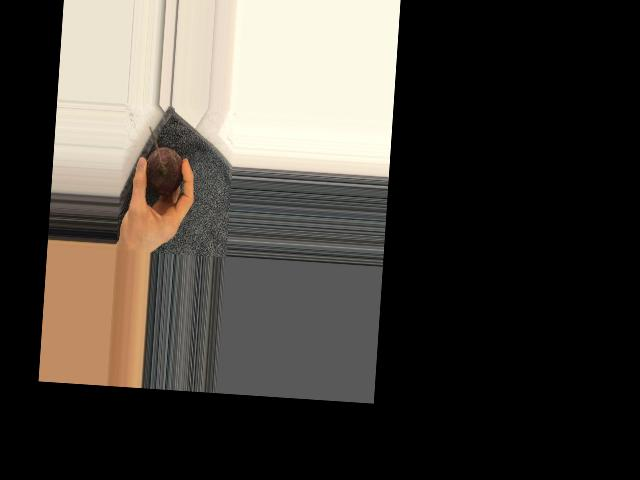beet: (144, 126, 185, 196)
